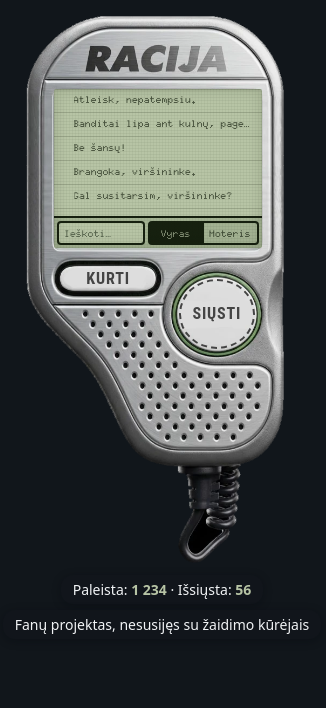
Test: Radio › share › not-allowed: message, no count
Click the option "Atleisk, nepatempsiu." at (158, 101), box [54,89,262,113]
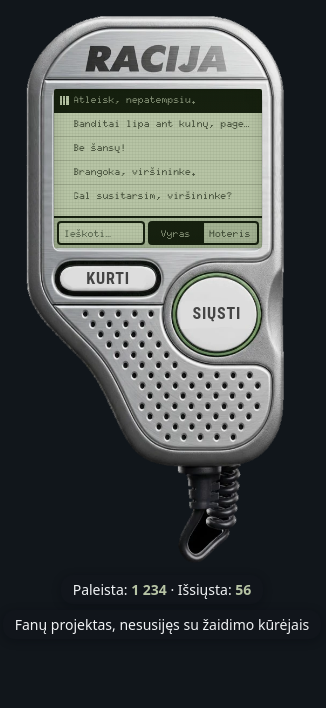
Click the button with class "skey" showing "SIŲSTI" at (217, 315), box [173,273,261,356]
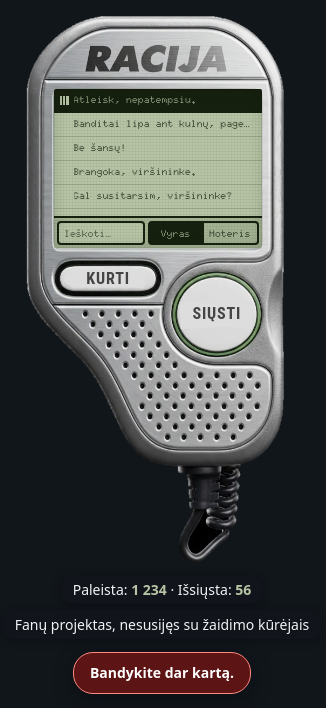
Now the text with class "toast" reads "Bandykite dar kartą.", box [90,663,234,682]
